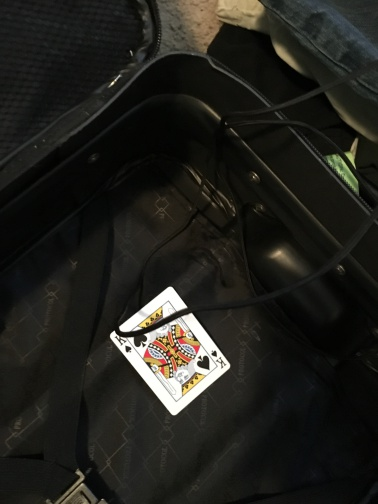king: (109, 286, 231, 417)
